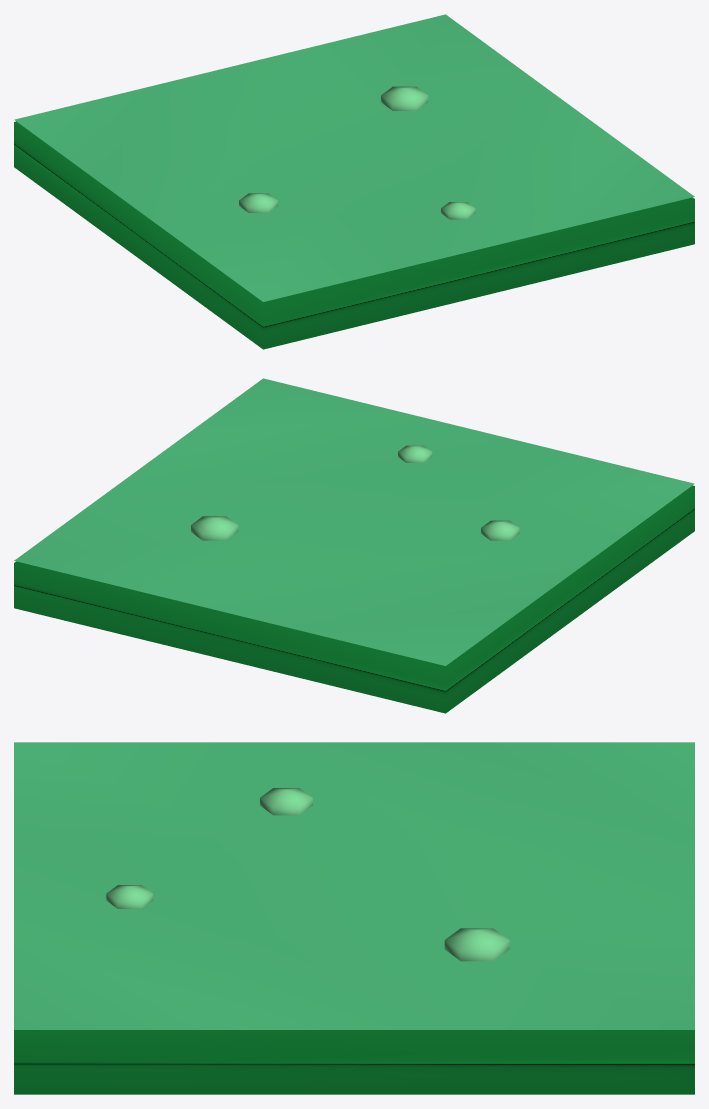
Rendered from tile_grass.glb.
3 views of the same model, one above another, from view 1: azimuth 30°, elevation 25°; view 2: azimuth 150°, elevation 25°; view 3: azimuth 270°, elevation 25° (orthographic). The views are drawn at different scales.
Visible parts, largest first — view 1: Tile.001; view 2: Tile.001; view 3: Tile.001.
Boxes of the visible parts, x1,y1,x2,y2 form: Tile.001: [14, 14, 694, 349]; Tile.001: [14, 378, 694, 713]; Tile.001: [14, 742, 694, 1094].
Size of the model in its own units: 1 by 0.1353 by 1.
